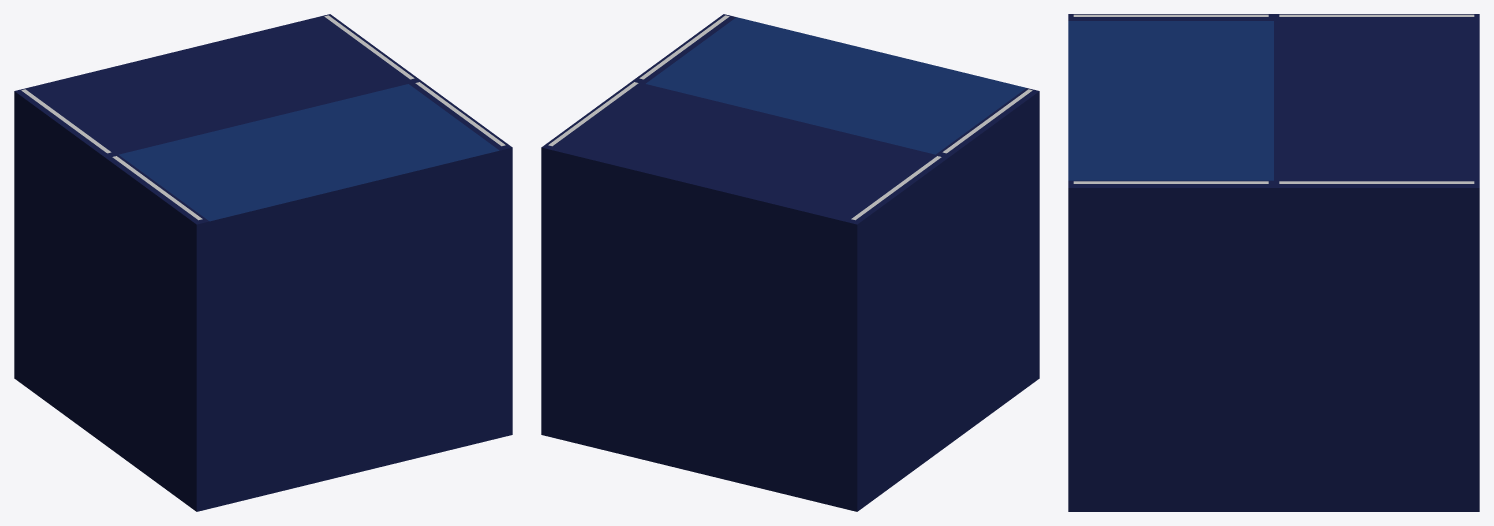
Rendered from B_Road_1.FBX.
The picture shows the model from 3 angles, left to right: view 1: azimuth 30°, elevation 25°; view 2: azimuth 150°, elevation 25°; view 3: azimuth 270°, elevation 25°; orthographic projection. The views are drawn at different scales.
Visible parts, largest first — view 1: Road_007, Glow_004; view 2: Road_007, Glow_004; view 3: Road_007, Glow_004.
Boxes of the visible parts, left/top/right/bottom form: Road_007: left=14, top=14, right=512, bottom=511; Glow_004: left=21, top=15, right=505, bottom=220; Road_007: left=541, top=14, right=1039, bottom=511; Glow_004: left=548, top=15, right=1032, bottom=220; Road_007: left=1068, top=14, right=1479, bottom=511; Glow_004: left=1073, top=14, right=1474, bottom=183.
Size of the model in its own units: 503 by 503 by 439.
